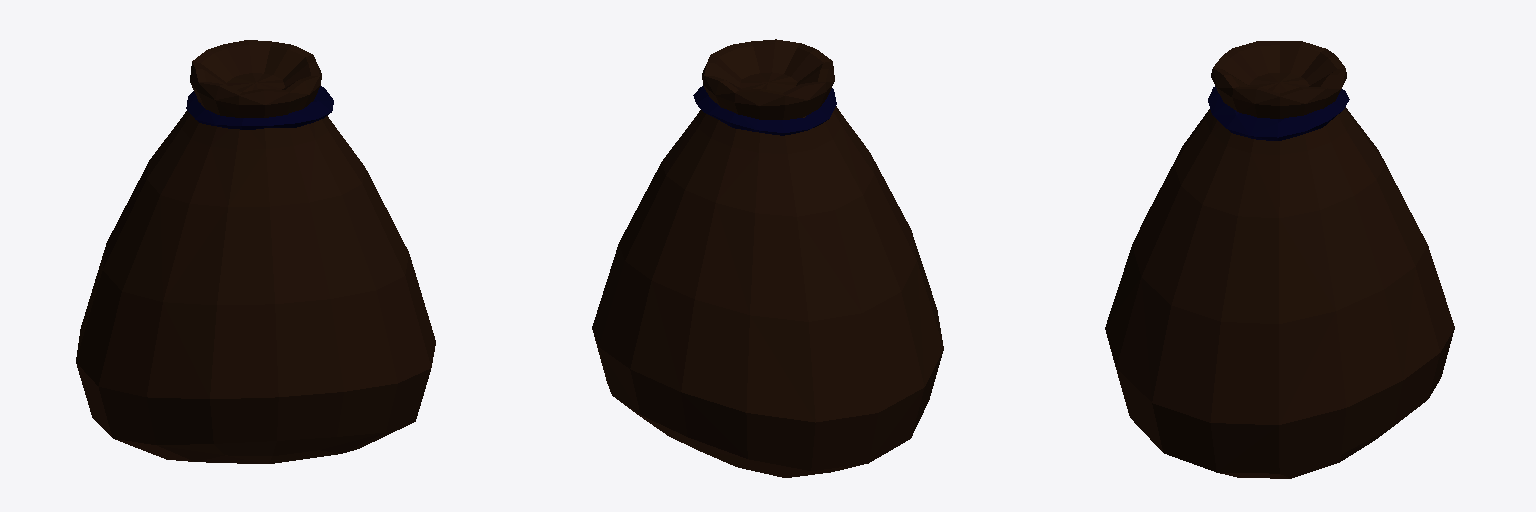
Rendered from Bag_Standing.obj.
The picture shows the model from 3 angles: view 1: azimuth 30°, elevation 25°; view 2: azimuth 150°, elevation 25°; view 3: azimuth 270°, elevation 25°; orthographic projection.
Parts seen in each view (by area): view 1: Bag_Standing_Cylinder.022; view 2: Bag_Standing_Cylinder.022; view 3: Bag_Standing_Cylinder.022.
Boxes of the visible parts, box(x1,y1,x2,y2) form: Bag_Standing_Cylinder.022: box(76, 40, 435, 463); Bag_Standing_Cylinder.022: box(592, 39, 943, 477); Bag_Standing_Cylinder.022: box(1105, 41, 1454, 478).
Bounding box in the file's own units: 0.2178 × 0.2527 × 0.2099.